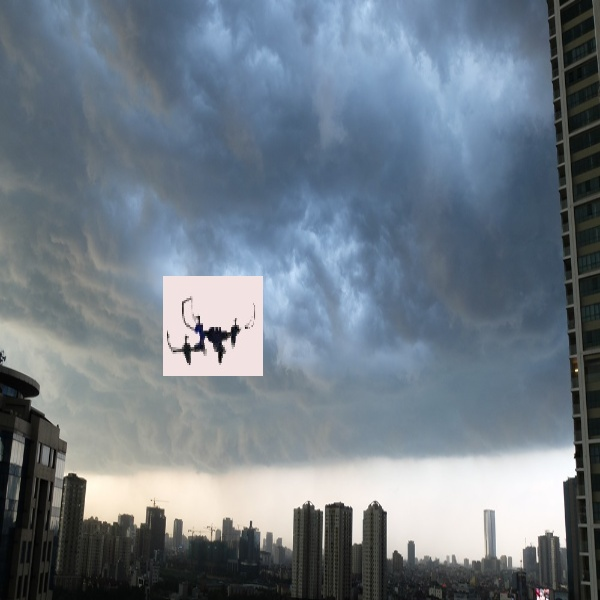drone: (162, 289, 259, 376)
